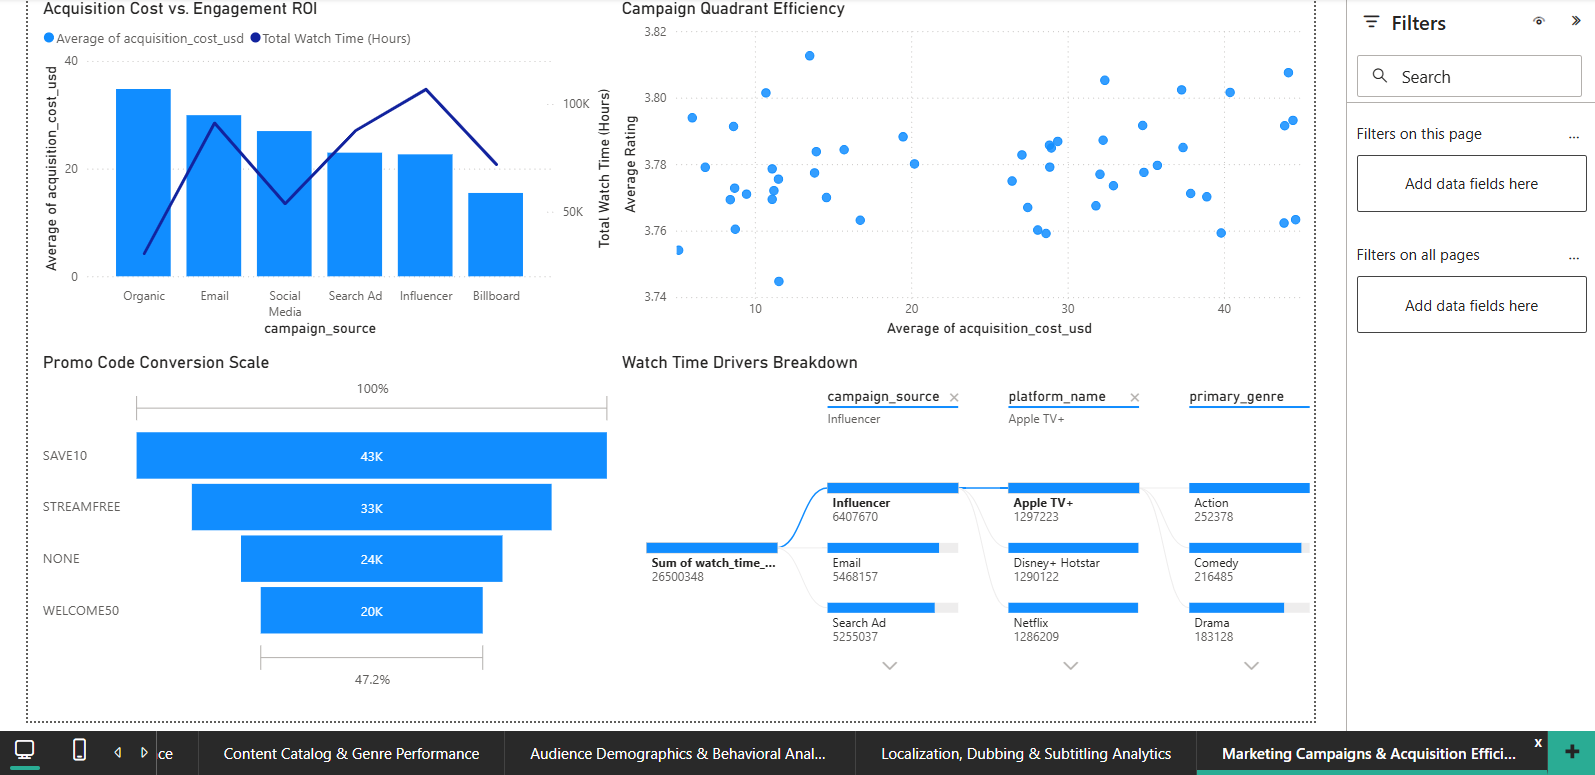

What the dashboard file says about the page in this screenshot:
{"tool":"powerbi","page":{"name":"Marketing Campaigns & Acquisition Efficiency","canvas":[1280,720],"ordinal":4},"visuals":[{"type":"lineStackedColumnComboChart","title":"Acquisition Cost vs. Engagement ROI","fields":{"Category":["Dim_Marketing.campaign_source"],"Y":["Avg(Dim_Marketing.acquisition_cost_usd)"],"Y2":["Dim_Content.Total Watch Time (Hours)"]},"box":[9.6,0,576.3,341.7],"z":0},{"type":"funnel","title":"Promo Code Conversion Scale","fields":{"Category":["Dim_Marketing.promo_code_used"],"Y":["Dim_Content.Total Viewership"]},"box":[9.6,352.7,576.3,341.7],"z":1000},{"type":"scatterChart","title":"Campaign Quadrant Efficiency ","fields":{"X":["Dim_Marketing.acquisition_cost_usd"],"Y":["Dim_Content.Average Rating"],"Category":["Dim_Marketing.marketing_id"]},"box":[585.9,0,694.3,341.7],"z":2000},{"type":"decompositionTreeVisual","title":"Watch Time Drivers Breakdown","fields":{"Analyze":["Sum(Fact_Viewership_And_Ratings.watch_time_minutes)"],"ExplainBy":["Dim_Marketing.campaign_source","Dim_Platform.platform_name","Dim_Content.primary_genre"]},"box":[585.9,352.7,694.3,341.7],"z":3000}]}

Visuals, with their boxes on the page's 1280x720 design canvas (x1, y1, x2, y2). These are canvas units, not pixel positions in the 1595x775 screenshot, which may show the page scaled, cropped or inside an application window:
"Acquisition Cost vs. Engagement ROI" lineStackedColumnComboChart: locate(10, 0, 586, 342)
"Promo Code Conversion Scale" funnel: locate(10, 353, 586, 694)
"Campaign Quadrant Efficiency " scatterChart: locate(586, 0, 1280, 342)
"Watch Time Drivers Breakdown" decompositionTreeVisual: locate(586, 353, 1280, 694)
